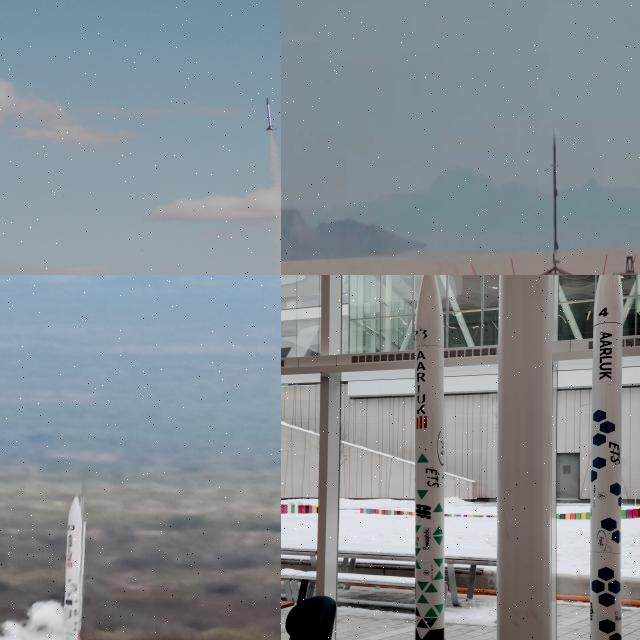Rocket: (590, 275, 623, 640), (415, 275, 444, 640), (63, 495, 82, 640), (554, 134, 560, 252), (264, 98, 276, 131)
